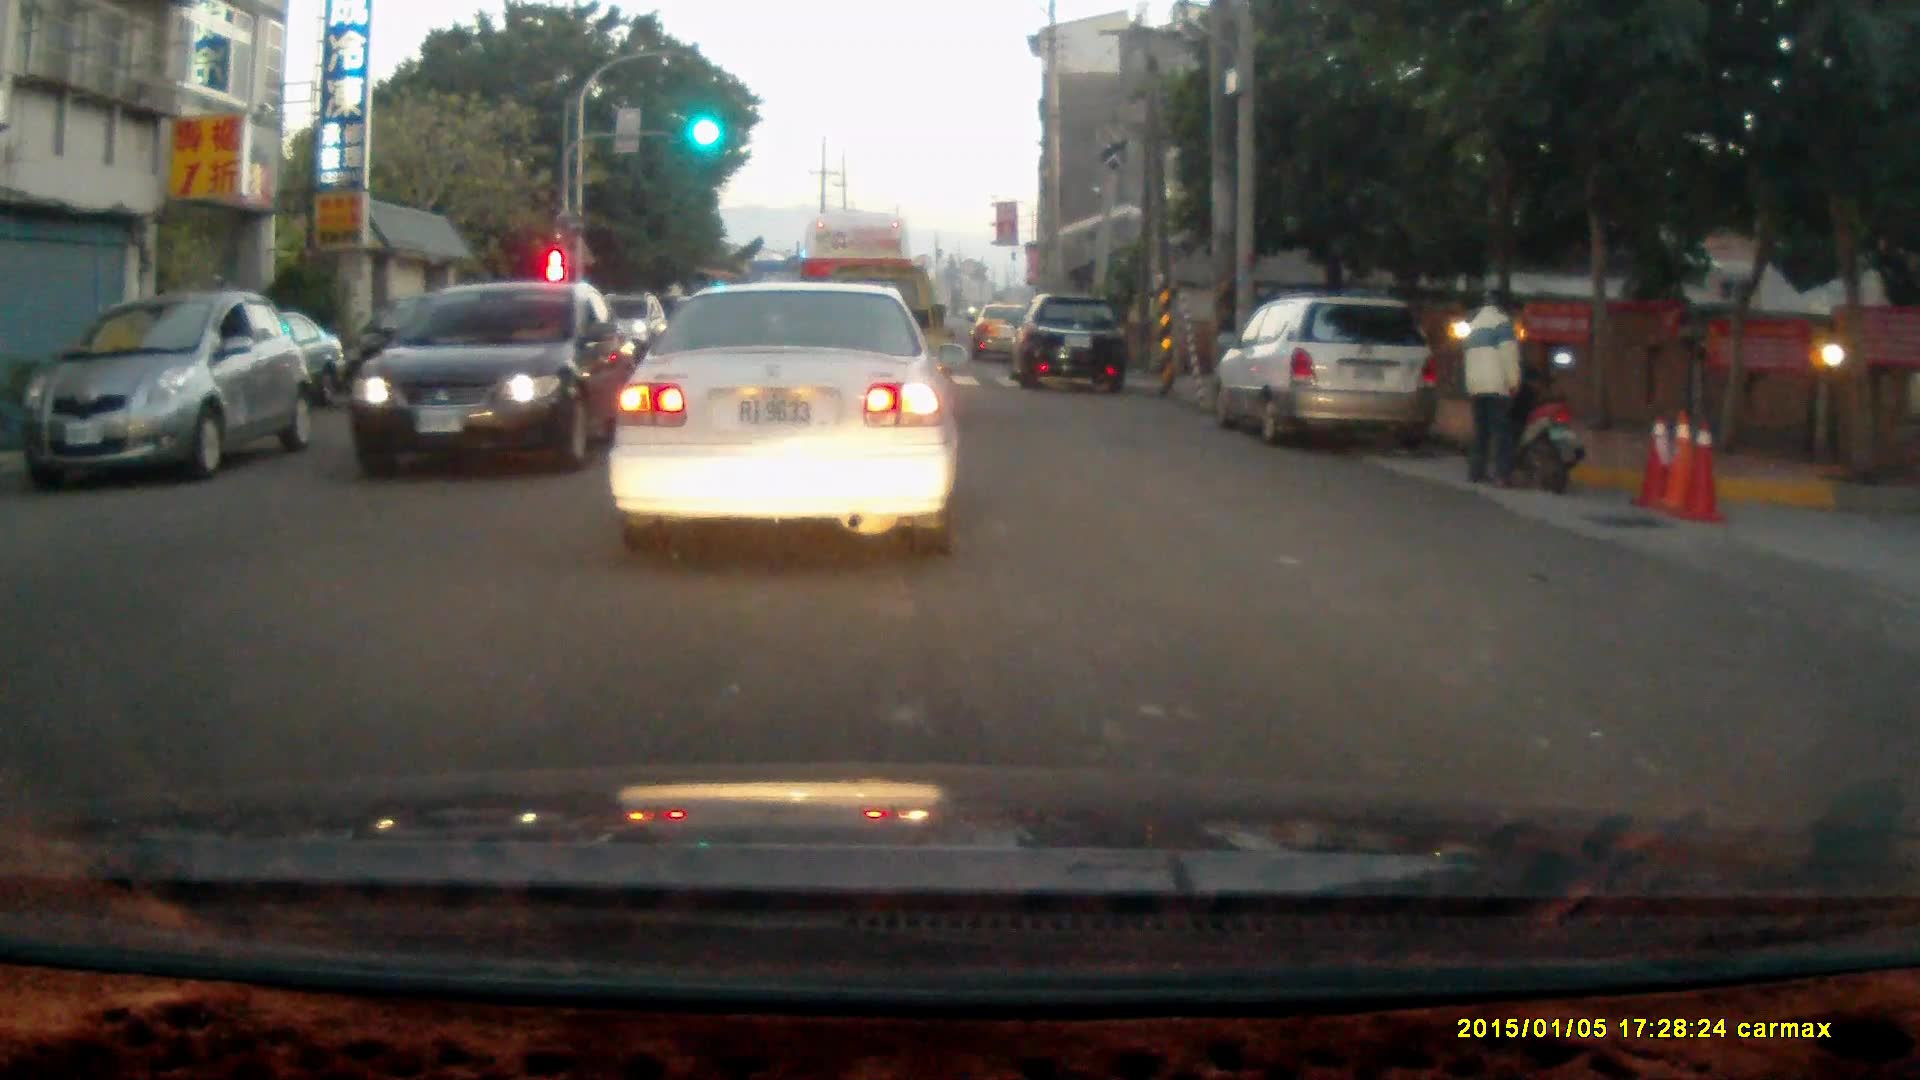pedestrian: (1458, 284, 1528, 490)
vehicle: (611, 273, 963, 550), (355, 280, 643, 476), (26, 293, 315, 481), (1224, 298, 1442, 452), (800, 209, 917, 378), (1016, 292, 1139, 396)
